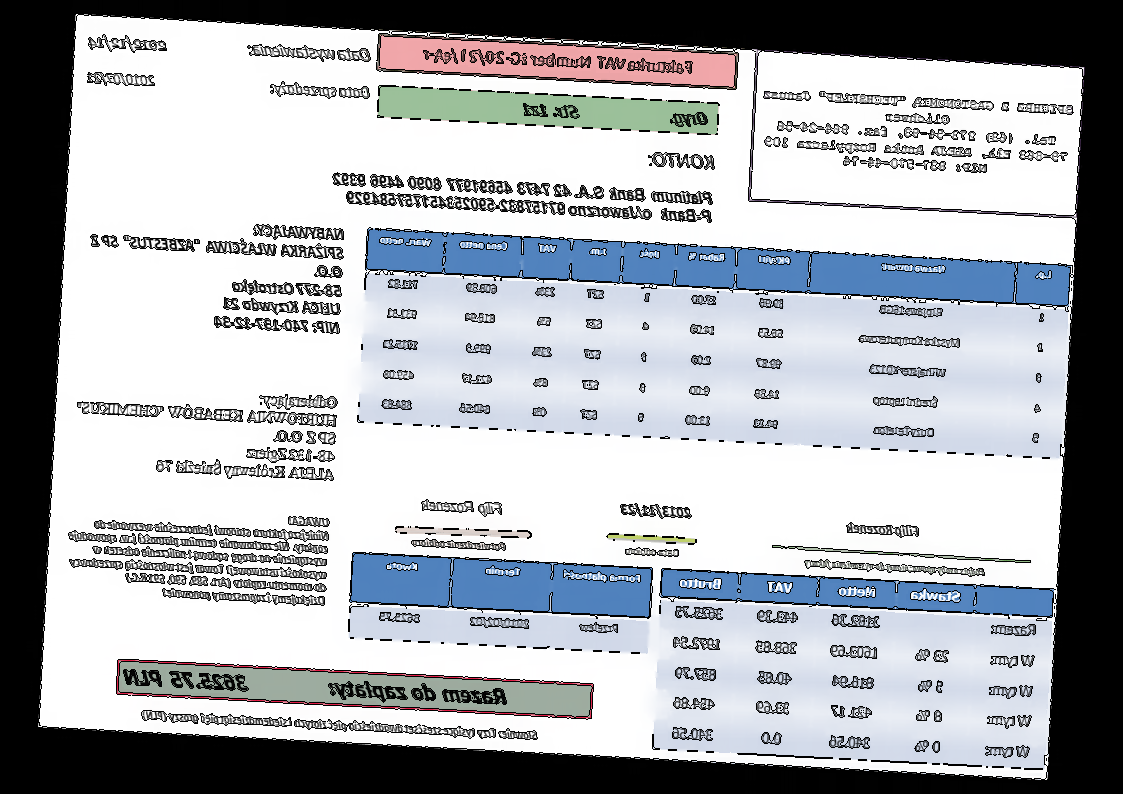Table: (356, 226, 1073, 460), (652, 567, 1057, 770), (345, 549, 654, 657)
TextBox: (82, 213, 347, 338), (760, 85, 1075, 182), (64, 502, 331, 608), (73, 382, 340, 483), (327, 169, 715, 228), (122, 663, 511, 710), (139, 707, 541, 745), (419, 43, 696, 80), (520, 99, 710, 130), (802, 556, 988, 579), (244, 40, 375, 65), (268, 80, 374, 103), (418, 495, 506, 518), (86, 32, 169, 56), (409, 536, 508, 554), (84, 67, 159, 90), (846, 518, 921, 540), (620, 500, 695, 522), (646, 150, 717, 173), (624, 543, 684, 561)
